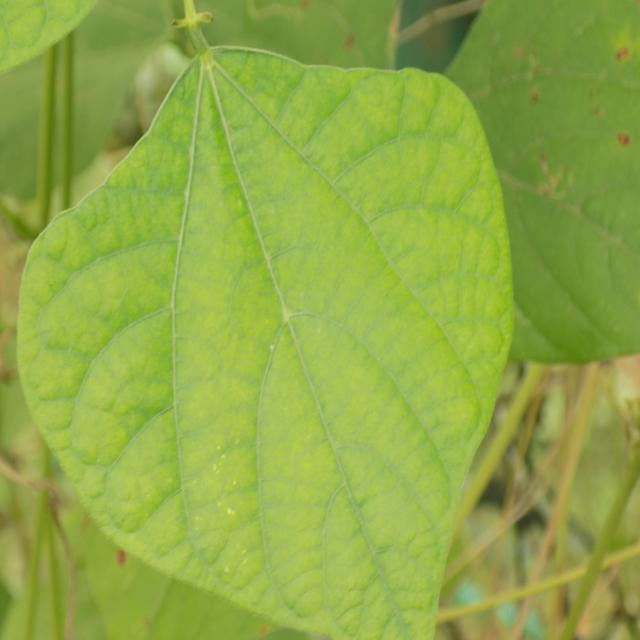Dolicos bean_healthy: (21, 40, 515, 640)
